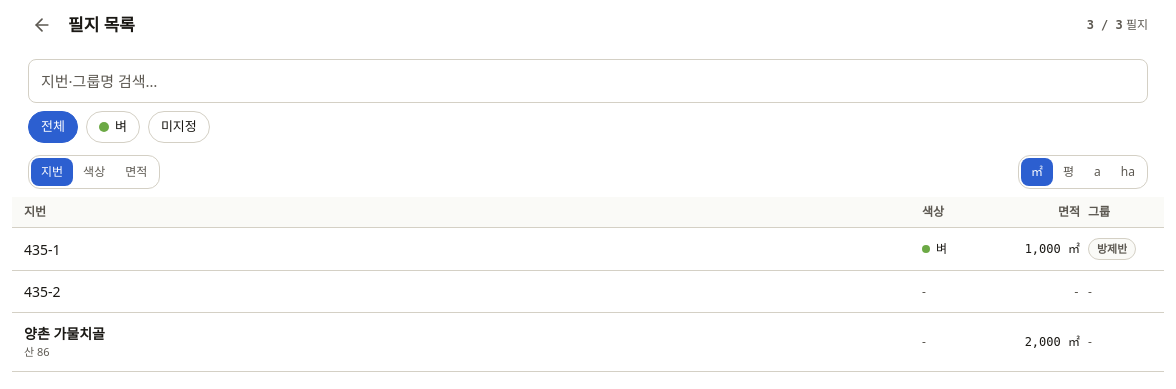
Test: AC-8: 검색 0건 빈 상태 + clear 복귀 › 결과 0건이면 "검색 결과 없음", clear(X) 버튼으로 전 행 복귀
The image size is (1176, 389).
Expected: the text "1,000 ㎡" is shown, [1025,242,1080,256]
Type "존재하지않는지번" into the field with placeholder "지번·그룹명 검색…" at (588, 81), box [28,59,1148,103]
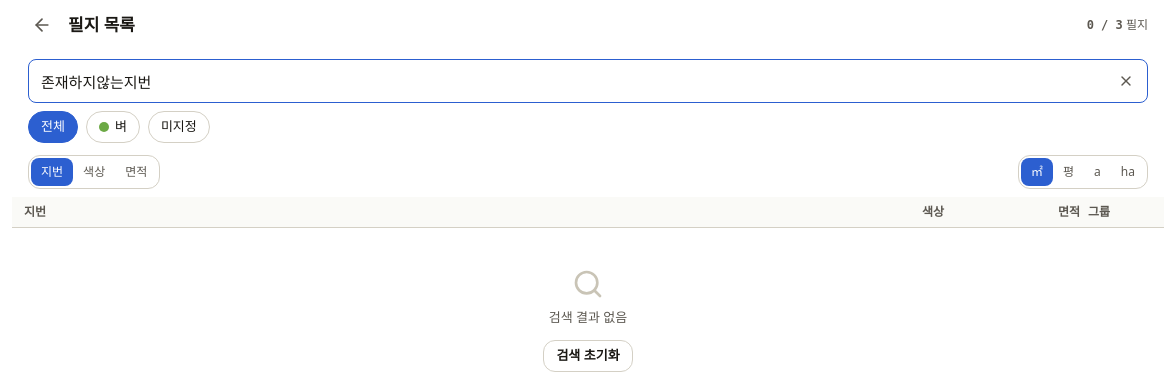
Expected: the text "검색 결과 없음" is shown, [549,308,627,328]
Expected: the element with test id "list-count" shows "0 / 3", [1087,16,1148,34]
Click the button named "검색어 지우기" at (1126, 81), box [1110,65,1142,97]
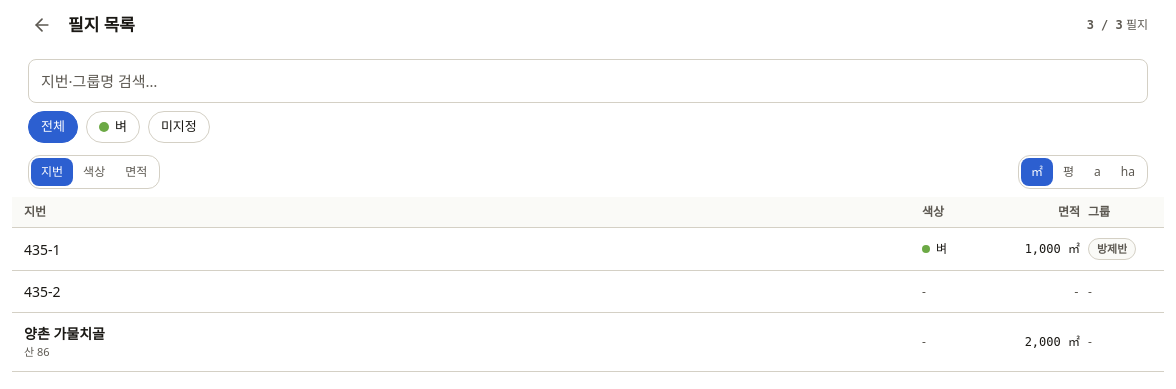
Expected: the button "435-1 벼 1,000 ㎡ 방제반" is shown, [12,228,1164,271]
Expected: the element with test id "list-count" shows "3 / 3", [1087,16,1148,34]
